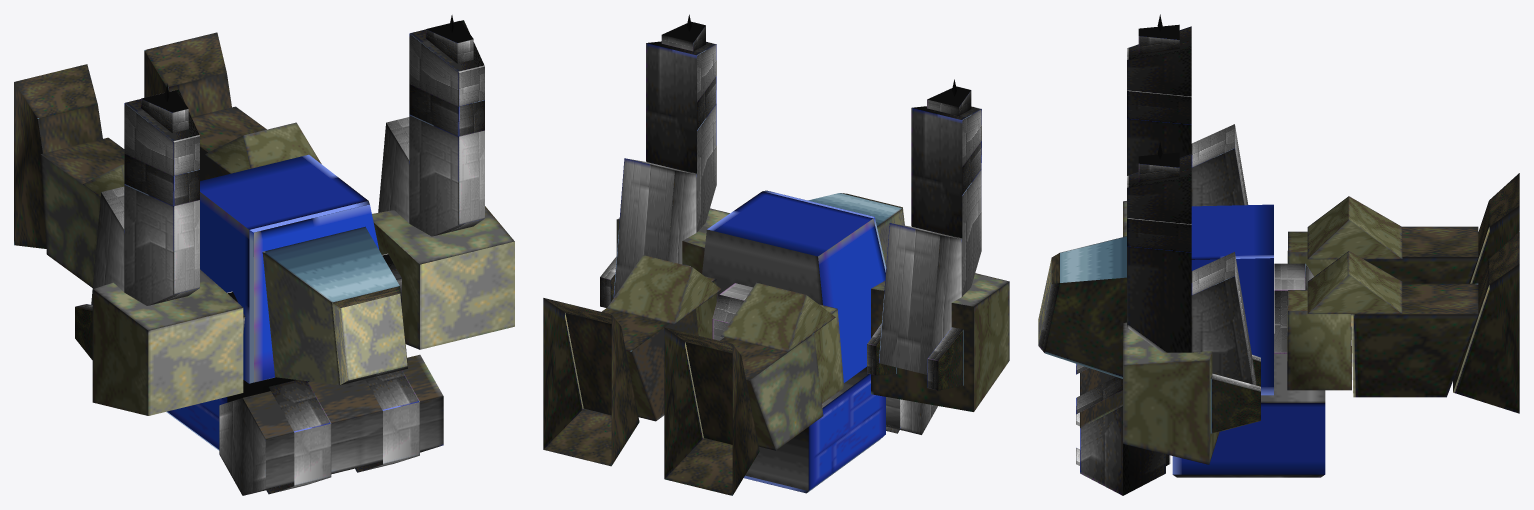
File: peewee_2.obj
The picture shows the model from 3 angles, left to right: view 1: azimuth 30°, elevation 25°; view 2: azimuth 150°, elevation 25°; view 3: azimuth 270°, elevation 25°; orthographic projection. The views are drawn at different scales.
Parts seen in each view (by area): view 1: body, leftLeg, rightLeg; view 2: body, leftLeg, rightLeg; view 3: body, rightLeg, leftLeg.
Part boxes in pixels (bbox=[...]): body: bbox=[75, 15, 514, 495]; leftLeg: bbox=[14, 64, 124, 287]; rightLeg: bbox=[144, 32, 321, 180]; body: bbox=[600, 14, 1009, 493]; leftLeg: bbox=[664, 282, 844, 495]; rightLeg: bbox=[543, 255, 721, 466]; body: bbox=[1038, 14, 1325, 495]; rightLeg: bbox=[1287, 231, 1519, 413]; leftLeg: bbox=[1287, 173, 1519, 289].
Bounding box in the file's own units: 0.6872 × 0.7117 × 0.8126.
Materials: 1 (1 with a texture image).
